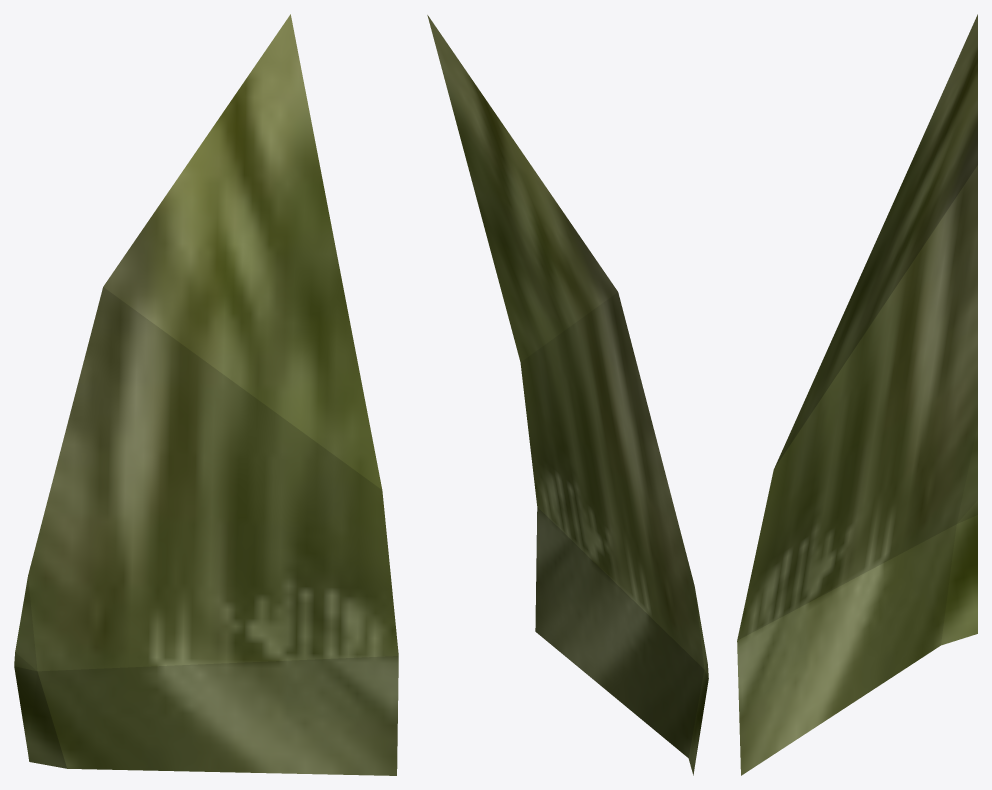
3 views of the same model, side by side, from view 1: azimuth 30°, elevation 25°; view 2: azimuth 150°, elevation 25°; view 3: azimuth 270°, elevation 25° (orthographic). The views are drawn at different scales.
Size of the model in its own units: 0.4145 by 0.9798 by 0.2806.
1 material, 1 textured.
